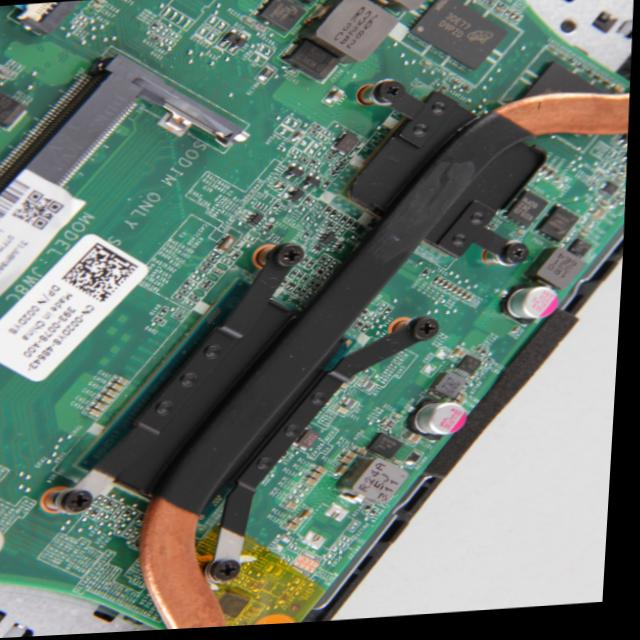datamatrix: (63, 242, 143, 306)
qrcode: (12, 189, 68, 233)
